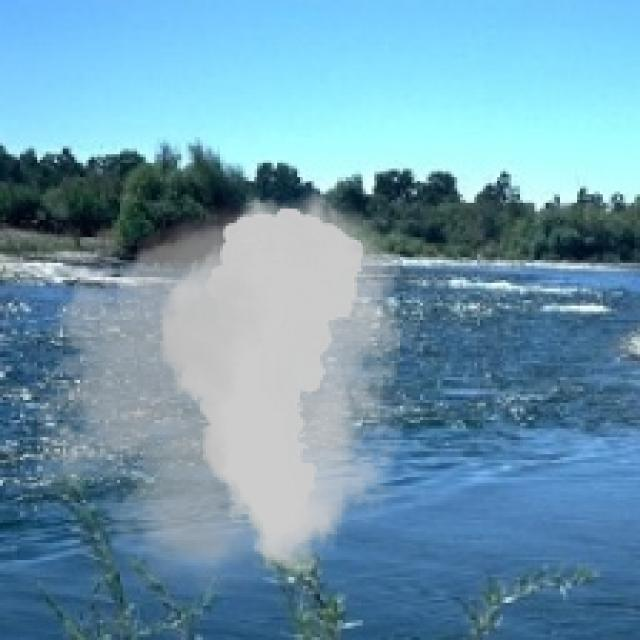smoke: (9, 180, 434, 597)
